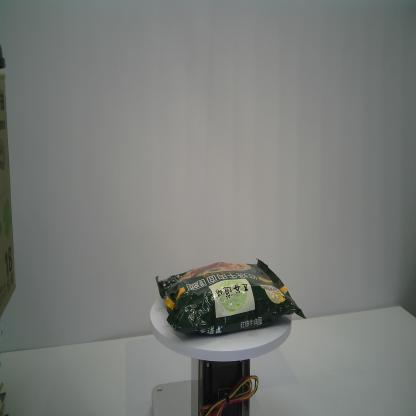Instant Noodles: (155, 257, 307, 337)
